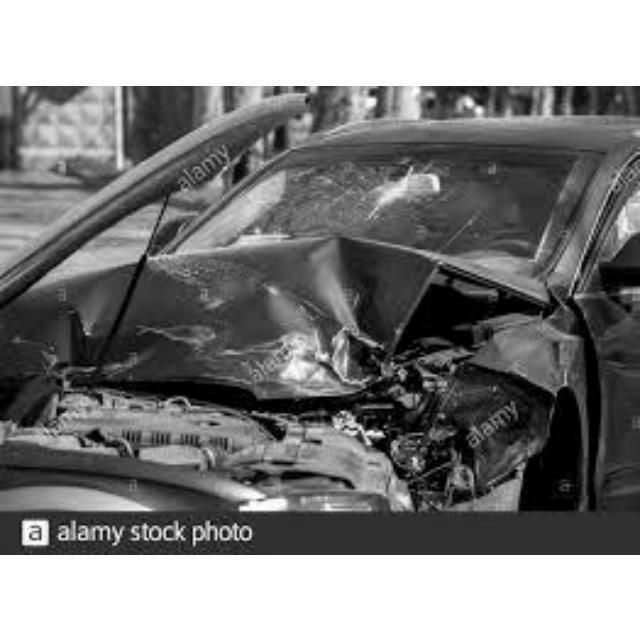Front-windscreen-damage: (147, 129, 594, 263)
bonnet-dent: (1, 244, 494, 410)
